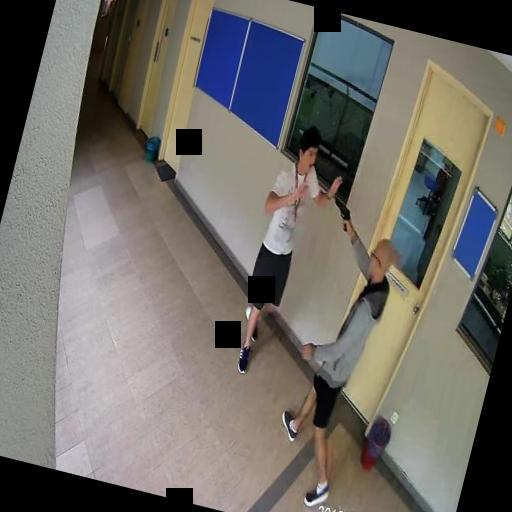Handgun: (328, 196, 354, 230)
